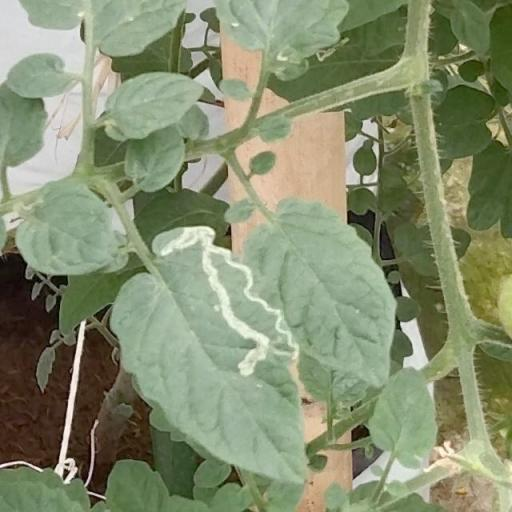Healthy: (246, 195, 398, 393), (10, 178, 118, 280), (366, 363, 438, 470), (4, 50, 76, 100)
Leaf Miner: (108, 222, 312, 488)
